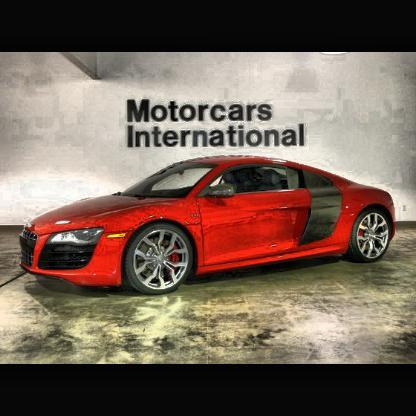Audi R8 Coupe 2012: (19, 157, 399, 297)
